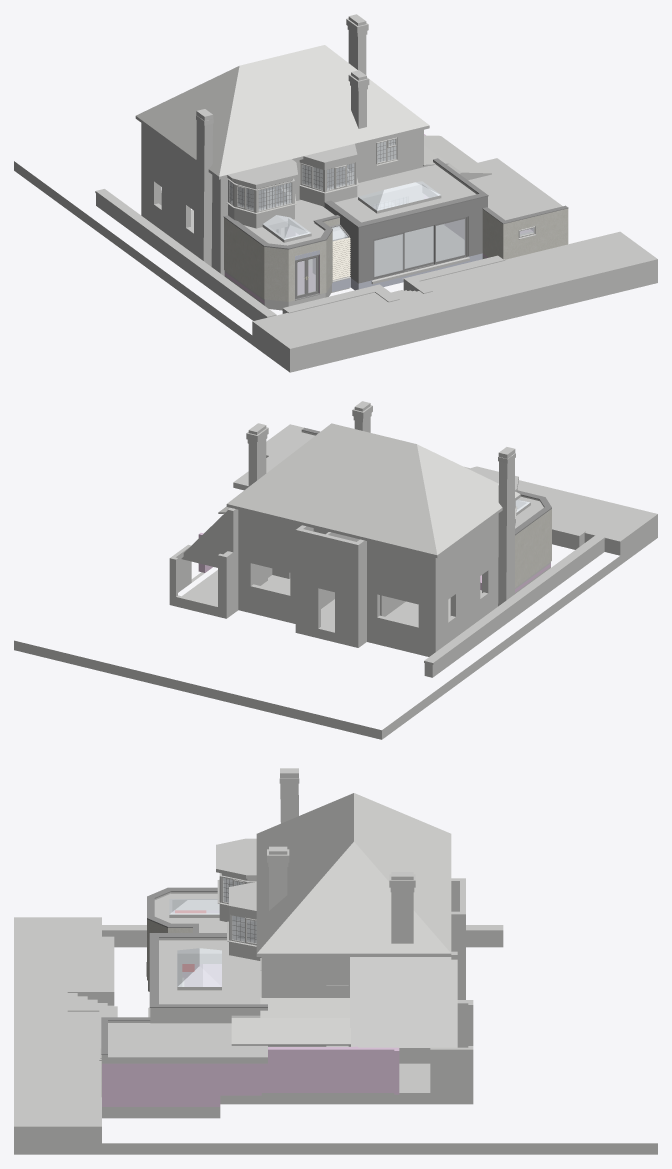
File: TrueVision_-_RJ03__OundleDrive_-_BuildingModel.glb
3 renders of one model, top to bottom at view 1: azimuth 30°, elevation 25°; view 2: azimuth 150°, elevation 25°; view 3: azimuth 270°, elevation 25°, orthographic. The views are drawn at different scales.
Parts seen in each view (by area): view 1: 14__MainBuilding__Roof::Default, 06__Landscape__LawnArea::Default, 12__MainBuilding__Walls::Default, 91__DesignOption__Scheme-01::Default, Layer0::Default, 91__DesignOption__Scheme-01::MAT00250_-_Render_SiliconeBased, 05__Landscape__TerraceLevel::Default, 91__DesignOption__Scheme-01::MAT01000_-_Glass_WindowGlazing_, 91__DesignOption__Scheme-01::MAT01250_-_Plastic_BlackUpvcPla, 91__DesignOption__Scheme-01::Temp__Grey01, 13__MainBuilding__ExteriorGlazing::MAT01000_-_Glass_WindowGl, 13__MainBuilding__ExteriorGlazing::MAT01253_-_Plastic_WhiteU (+5 smaller); view 2: 12__MainBuilding__Walls::Default, 14__MainBuilding__Roof::Default, 05__Landscape__TerraceLevel::Default, Layer0::Default, 06__Landscape__LawnArea::Default, 11__MainBuilding__Floor::Default, 91__DesignOption__Scheme-01::MAT00250_-_Render_SiliconeBased, 91__DesignOption__Scheme-01::Default, 91__DesignOption__Scheme-01::MAT01250_-_Plastic_BlackUpvcPla; view 3: 14__MainBuilding__Roof::Default, 06__Landscape__LawnArea::Default, 91__DesignOption__Scheme-01::Default, 00__Xref__OFF!::Existing, 12__MainBuilding__Walls::Default, 05__Landscape__TerraceLevel::Default, Layer0::Default, 91__DesignOption__Scheme-01::MAT01250_-_Plastic_BlackUpvcPla, 11__MainBuilding__Floor::Default, 91__DesignOption__Scheme-01::MAT01000_-_Glass_WindowGlazing_, 13__MainBuilding__ExteriorGlazing::MAT01253_-_Plastic_WhiteU, 13__MainBuilding__ExteriorGlazing::MAT01000_-_Glass_WindowGl.
Part boxes in pixels (bbox=[...]): 14__MainBuilding__Roof::Default: bbox=[136, 45, 491, 176]; 06__Landscape__LawnArea::Default: bbox=[252, 231, 657, 362]; 12__MainBuilding__Walls::Default: bbox=[141, 14, 535, 270]; 91__DesignOption__Scheme-01::Default: bbox=[244, 158, 562, 292]; Layer0::Default: bbox=[95, 116, 505, 320]; 91__DesignOption__Scheme-01::MAT00250_-_Render_SiliconeBased: bbox=[224, 208, 568, 301]; 05__Landscape__TerraceLevel::Default: bbox=[14, 161, 657, 372]; 91__DesignOption__Scheme-01::MAT01000_-_Glass_WindowGlazing_: bbox=[263, 181, 464, 295]; 91__DesignOption__Scheme-01::MAT01250_-_Plastic_BlackUpvcPla: bbox=[223, 158, 568, 300]; 91__DesignOption__Scheme-01::Temp__Grey01: bbox=[323, 196, 487, 283]; 13__MainBuilding__ExteriorGlazing::MAT01000_-_Glass_WindowGl: bbox=[229, 139, 533, 235]; 13__MainBuilding__ExteriorGlazing::MAT01253_-_Plastic_WhiteU: bbox=[227, 137, 536, 239]; 12__MainBuilding__Walls::Default: bbox=[169, 401, 515, 648]; 14__MainBuilding__Roof::Default: bbox=[183, 423, 520, 555]; 05__Landscape__TerraceLevel::Default: bbox=[14, 528, 657, 739]; Layer0::Default: bbox=[176, 466, 605, 677]; 06__Landscape__LawnArea::Default: bbox=[266, 424, 657, 555]; 11__MainBuilding__Floor::Default: bbox=[169, 562, 550, 653]; 91__DesignOption__Scheme-01::MAT00250_-_Render_SiliconeBased: bbox=[515, 509, 551, 587]; 91__DesignOption__Scheme-01::Default: bbox=[233, 430, 544, 528]; 91__DesignOption__Scheme-01::MAT01250_-_Plastic_BlackUpvcPla: bbox=[302, 427, 551, 535]; 14__MainBuilding__Roof::Default: bbox=[231, 793, 451, 1052]; 06__Landscape__LawnArea::Default: bbox=[14, 917, 117, 1143]; 91__DesignOption__Scheme-01::Default: bbox=[102, 892, 267, 1063]; 00__Xref__OFF!::Existing: bbox=[102, 910, 399, 1106]; 12__MainBuilding__Walls::Default: bbox=[219, 768, 473, 1092]; 05__Landscape__TerraceLevel::Default: bbox=[14, 987, 657, 1154]; Layer0::Default: bbox=[67, 838, 503, 1092]; 91__DesignOption__Scheme-01::MAT01250_-_Plastic_BlackUpvcPla: bbox=[101, 887, 267, 1054]; 11__MainBuilding__Floor::Default: bbox=[102, 981, 473, 1113]; 91__DesignOption__Scheme-01::MAT01000_-_Glass_WindowGlazing_: bbox=[169, 899, 221, 986]; 13__MainBuilding__ExteriorGlazing::MAT01253_-_Plastic_WhiteU: bbox=[100, 873, 261, 1058]; 13__MainBuilding__ExteriorGlazing::MAT01000_-_Glass_WindowGl: bbox=[223, 876, 256, 943].
Bounding box in the file's own units: 20 × 9.2 × 26.
Materials: 11 (1 with a texture image).
